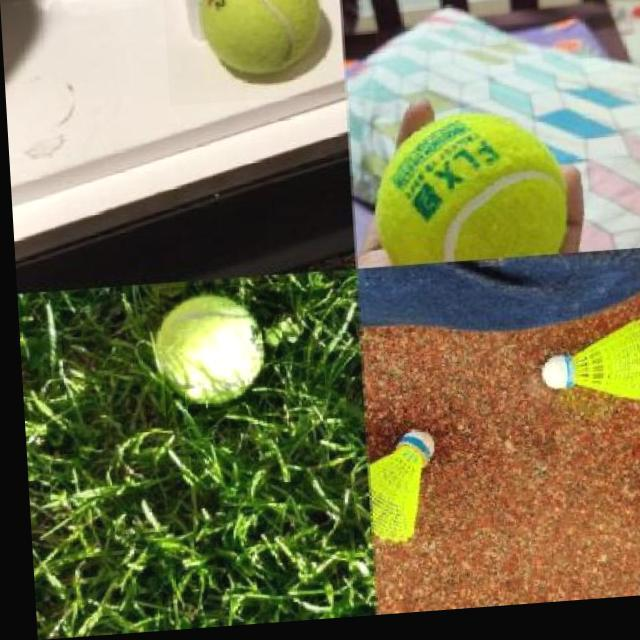-: (164, 0, 378, 109), (154, 284, 280, 431)
